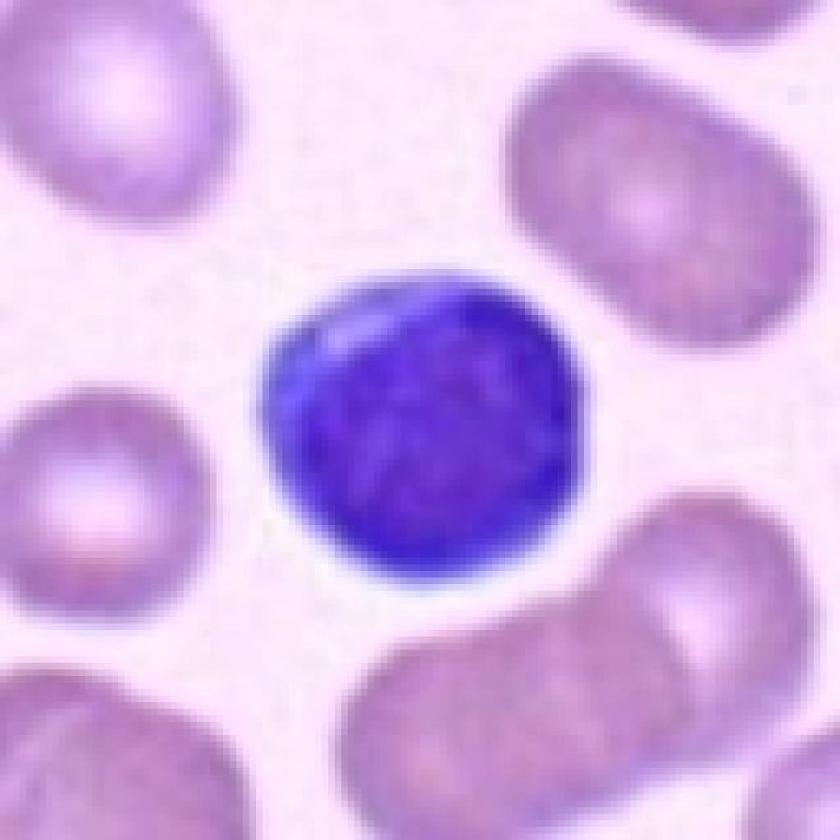lymphocyte: (254, 257, 597, 593)
